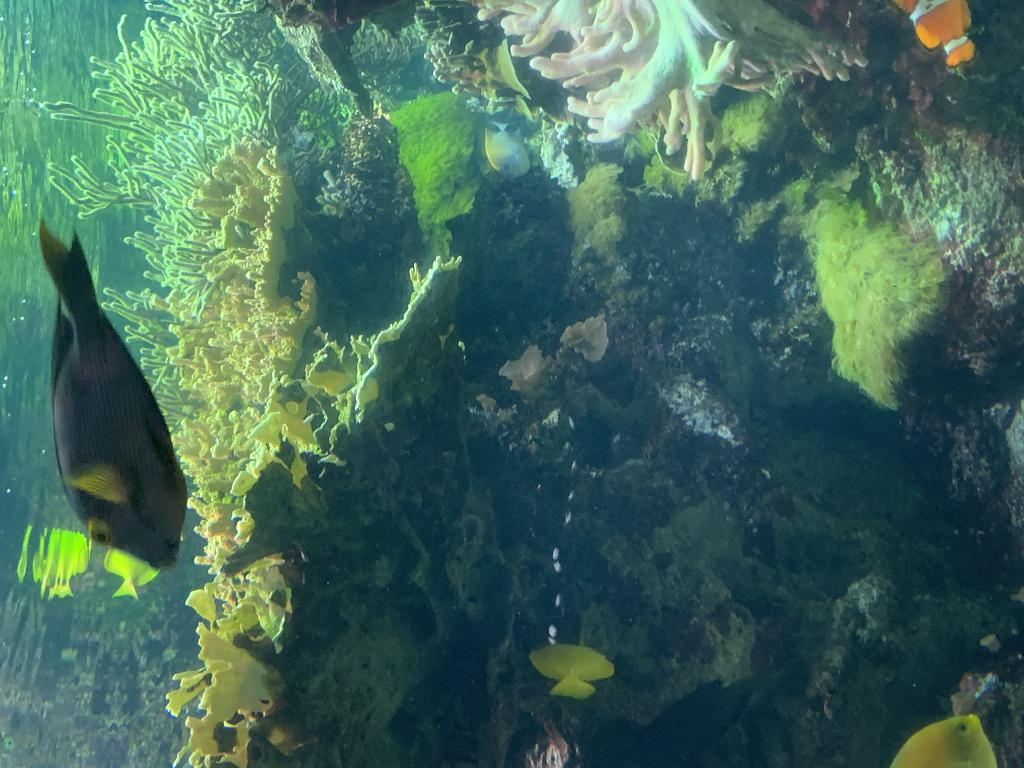fish: (28, 218, 190, 574), (888, 709, 1000, 767), (892, 0, 978, 68), (528, 642, 614, 700), (102, 531, 168, 599), (482, 117, 536, 181)
